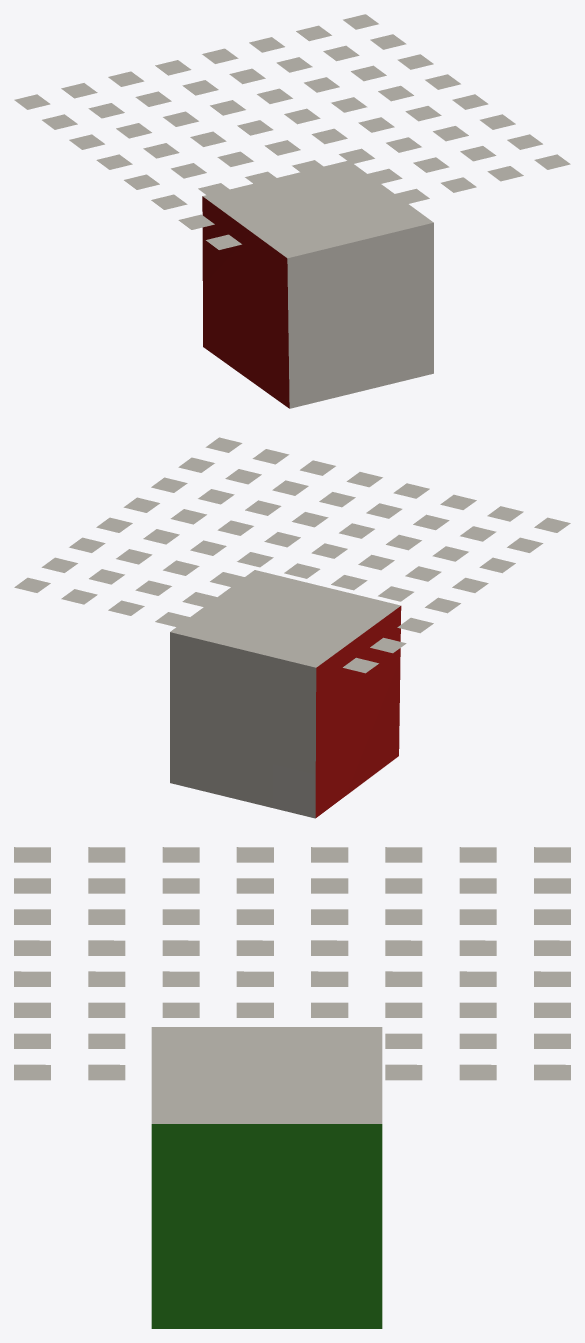
Rendered from cbox-light-many.obj.
3 views of the same model, one above another, from view 1: azimuth 30°, elevation 25°; view 2: azimuth 150°, elevation 25°; view 3: azimuth 270°, elevation 25° (orthographic). The views are drawn at different scales.
Visible parts, largest first — view 1: CornellBox_Original.003, CornellBox_Original.009, CornellBox_Original.005, CornellBox_Original, CornellBox_Original.008; view 2: CornellBox_Original.002, CornellBox_Original.009, CornellBox_Original.005, CornellBox_Original; view 3: CornellBox_Original.004, CornellBox_Original.009, CornellBox_Original, CornellBox_Original.008.
Boxes of the visible parts, x1,y1,x2,y2 form: CornellBox_Original.003: [287, 222, 433, 408]; CornellBox_Original.009: [14, 14, 570, 249]; CornellBox_Original.005: [202, 196, 289, 408]; CornellBox_Original: [202, 161, 433, 258]; CornellBox_Original.008: [293, 198, 343, 215]; CornellBox_Original.002: [170, 632, 316, 818]; CornellBox_Original.009: [14, 437, 570, 673]; CornellBox_Original.005: [315, 606, 401, 817]; CornellBox_Original: [170, 570, 400, 667]; CornellBox_Original.004: [151, 1124, 382, 1328]; CornellBox_Original.009: [14, 847, 570, 1080]; CornellBox_Original: [151, 1027, 382, 1123]; CornellBox_Original.008: [241, 1065, 292, 1085].
Bounding box in the file's own units: 4.85 × 2.97 × 4.9.
